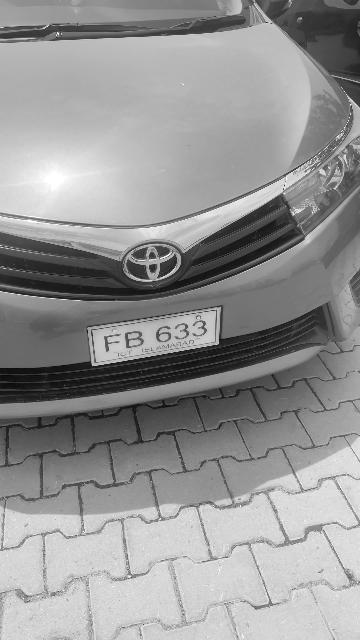Number: (102, 316, 209, 355)
